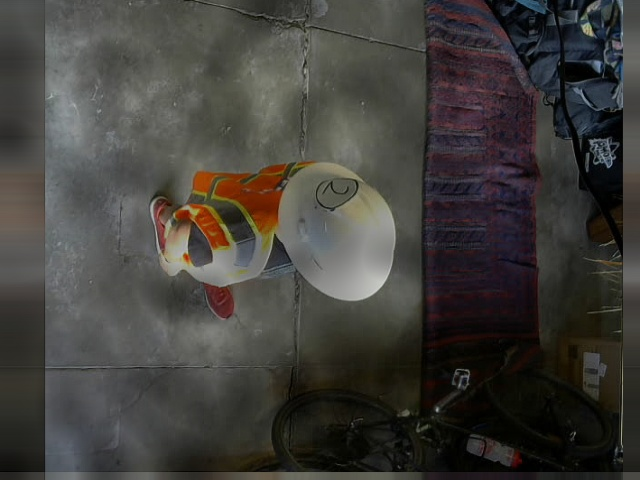two: (315, 177, 359, 209)
